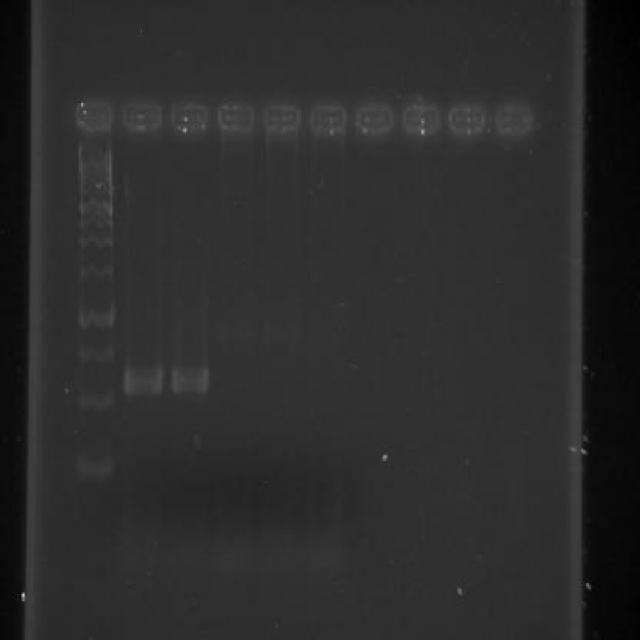B: (120, 362, 166, 400), (168, 363, 214, 399)
L: (67, 88, 546, 148)
M: (74, 138, 118, 488)
P: (76, 452, 116, 482), (78, 304, 114, 330), (78, 390, 114, 415), (78, 343, 114, 365), (76, 198, 115, 217), (79, 262, 115, 282), (78, 230, 114, 250), (78, 217, 114, 230), (77, 188, 116, 198)
Pc: (400, 98, 442, 138), (74, 96, 114, 136), (123, 94, 162, 134), (446, 103, 491, 137), (263, 98, 302, 136), (496, 100, 536, 137), (170, 99, 208, 136), (356, 100, 394, 137), (218, 98, 255, 134), (310, 100, 348, 134)
